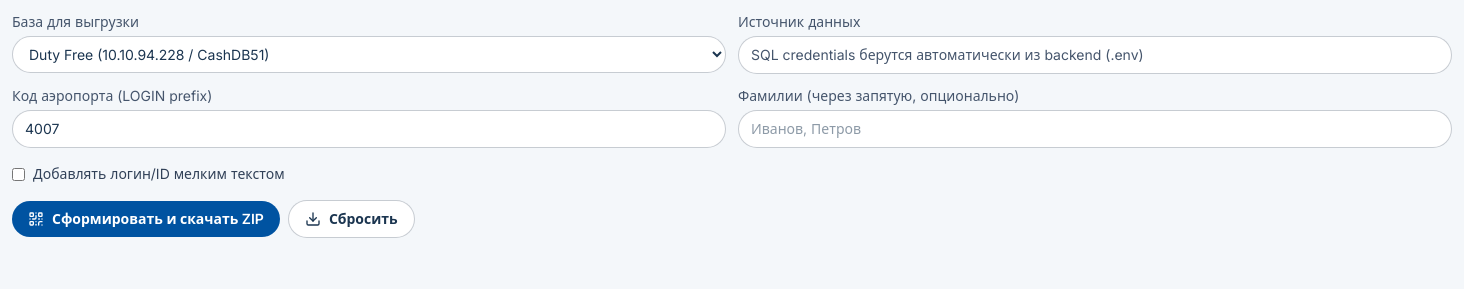
OneCQrPanel › submits normalized payload and shows success state
Type " 4011 " into the field with placeholder "4007" at (369, 129), box [12,110,726,148]
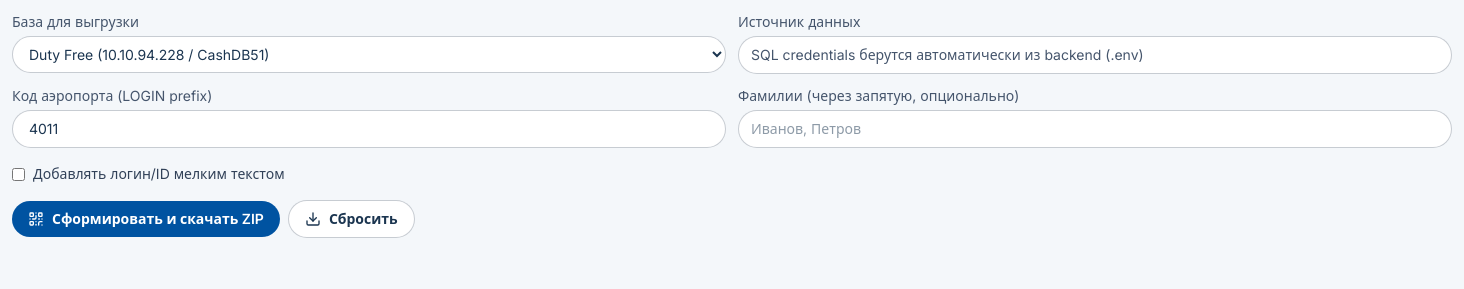
Type "  Иванов, Петров  " into the field with placeholder "Иванов, Петров" at (1095, 129), box [738,110,1452,148]
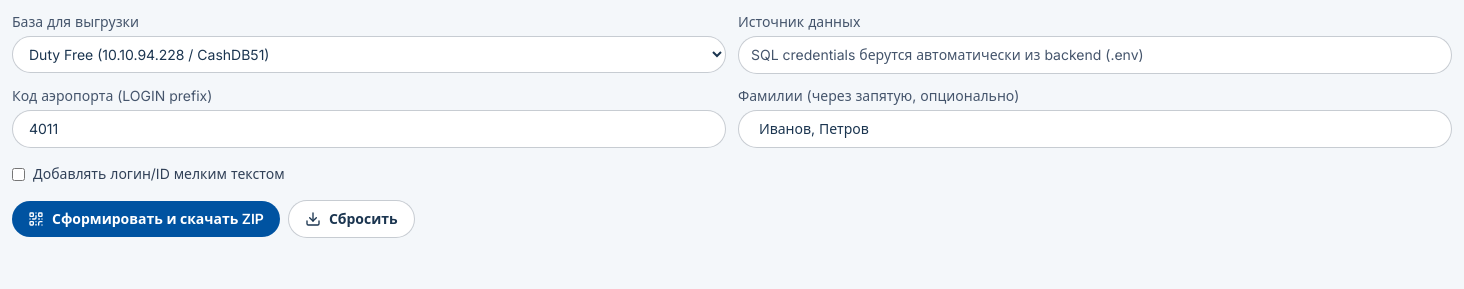
Click the checkbox labelled "Добавлять логин/ID мелким текстом" at (18, 174), box [12,168,25,180]
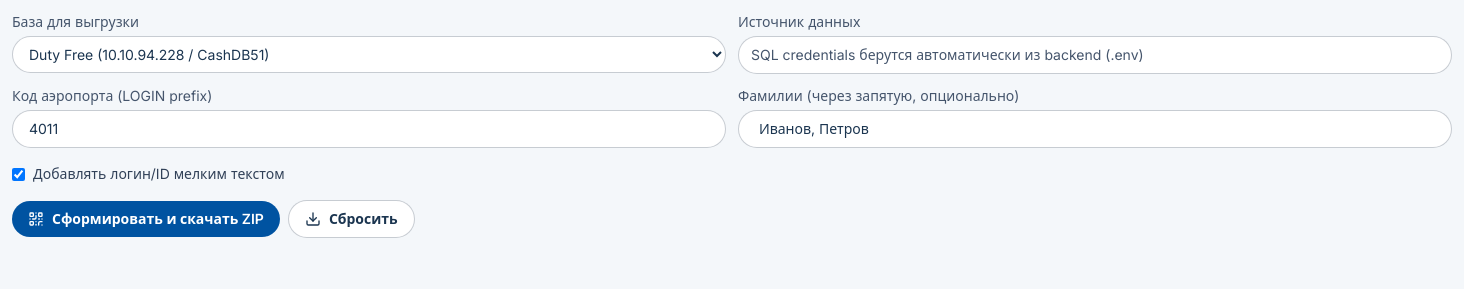
Click the button "Сформировать и скачать ZIP" at (146, 219), box [12,201,280,237]
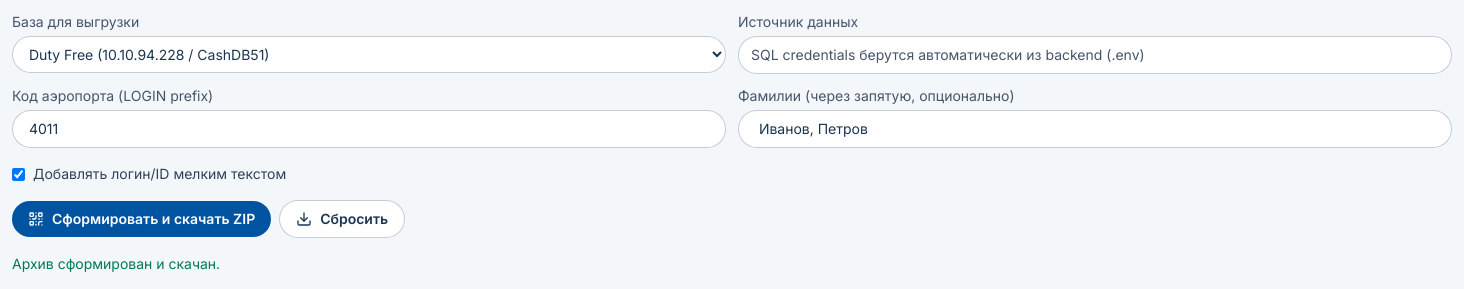
Check: the text "Архив сформирован и скачан." is shown, box [12,255,220,272]
